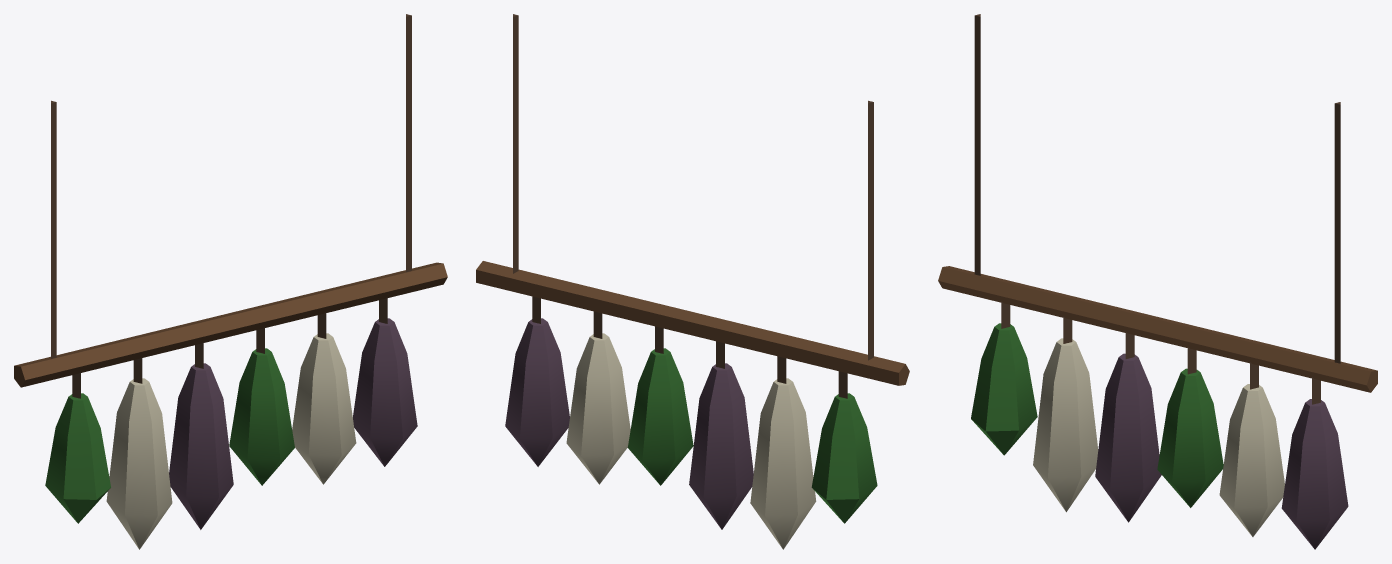
File: HangingHerbs.fbx
The picture shows the model from 3 angles, left to right: view 1: azimuth 30°, elevation 25°; view 2: azimuth 150°, elevation 25°; view 3: azimuth 330°, elevation 25°; orthographic projection.
Parts seen in each view (by area): view 1: HangingHerbs; view 2: HangingHerbs; view 3: HangingHerbs.
Boxes of the visible parts, <box> form: HangingHerbs: <box>14,14,447,549</box>; HangingHerbs: <box>476,14,909,549</box>; HangingHerbs: <box>938,14,1377,549</box>.
Bounding box in the file's own units: 1 × 1.06 × 0.15.
